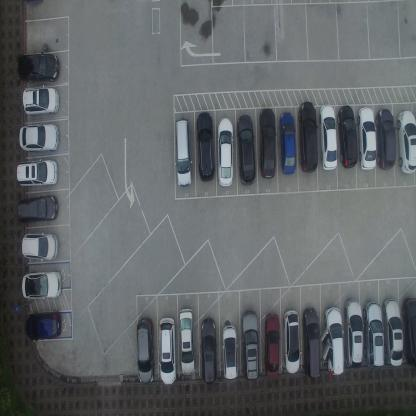car: (363, 300, 385, 368), (298, 100, 318, 173), (301, 306, 321, 379), (337, 104, 359, 170), (323, 306, 344, 375), (382, 298, 403, 366), (344, 298, 364, 369), (135, 318, 156, 385), (17, 51, 60, 83), (196, 111, 215, 183), (235, 114, 254, 184), (396, 108, 416, 174), (17, 157, 58, 189), (16, 193, 58, 224), (357, 106, 377, 171), (258, 108, 276, 179), (174, 117, 192, 188), (319, 102, 337, 172), (376, 107, 396, 170), (158, 315, 176, 385), (18, 122, 60, 152), (22, 84, 59, 118), (24, 308, 62, 341), (21, 270, 62, 300), (241, 308, 258, 380), (278, 112, 297, 175), (283, 309, 301, 375), (21, 231, 59, 262), (178, 307, 195, 376), (200, 316, 217, 384), (263, 312, 280, 378), (217, 117, 233, 186), (401, 296, 415, 366), (222, 324, 238, 380)
